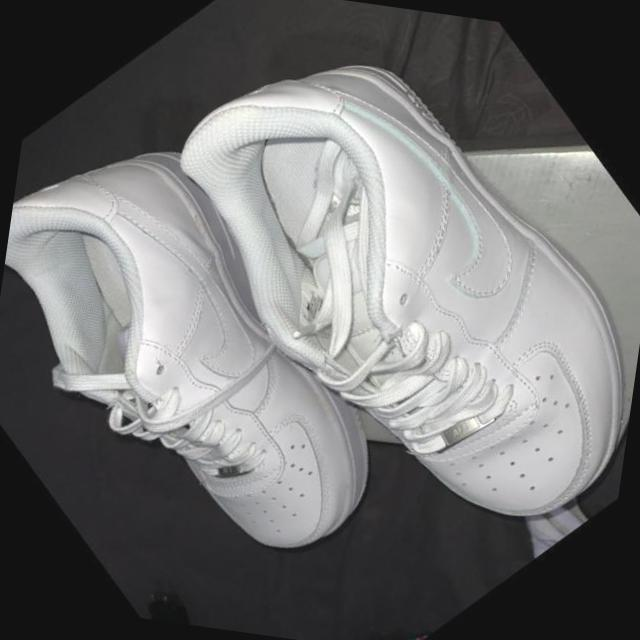nike_fake_airforce: (96, 0, 640, 619), (0, 88, 469, 640)
